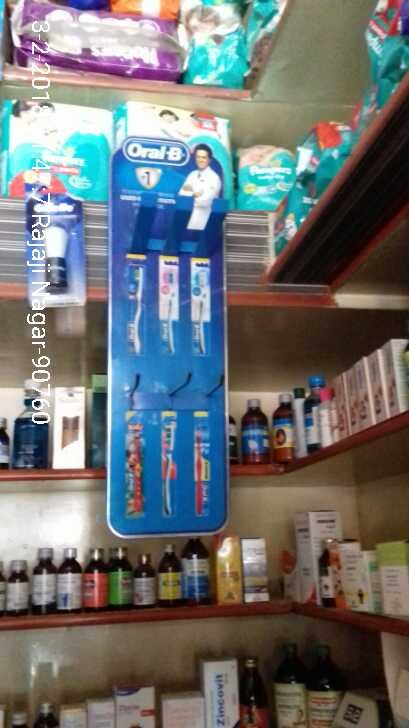pampers: (113, 99, 234, 152), (233, 141, 298, 207)
